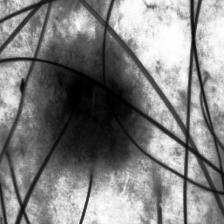Benign Marking or Mole: (40, 45, 145, 167)
